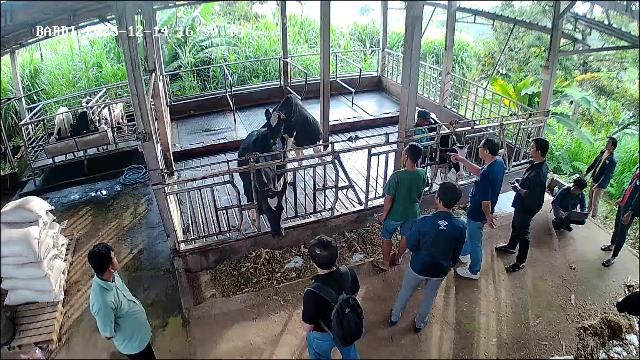mounting: (257, 94, 327, 189)
